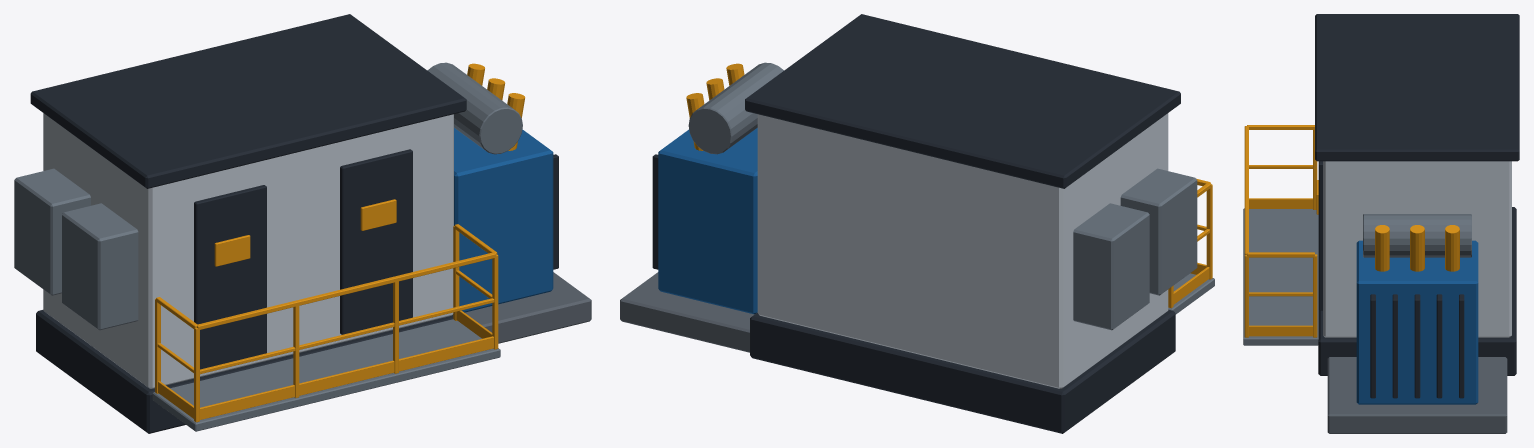
The model's file is mcc_substation_mcc101.glb.
The picture shows the model from 3 angles, left to right: view 1: azimuth 30°, elevation 25°; view 2: azimuth 150°, elevation 25°; view 3: azimuth 270°, elevation 25°; orthographic projection. The views are drawn at different scales.
Visible parts, largest first — view 1: MCC_Conservator; view 2: MCC_Conservator; view 3: MCC_Conservator.
Boxes of the visible parts, box(x1,y1,x2,y2) form: MCC_Conservator: box(14, 14, 591, 433); MCC_Conservator: box(620, 14, 1214, 433); MCC_Conservator: box(1243, 14, 1519, 433).
Size of the model in its own units: 5.31 by 2.73 by 3.
1 material, 1 textured.
